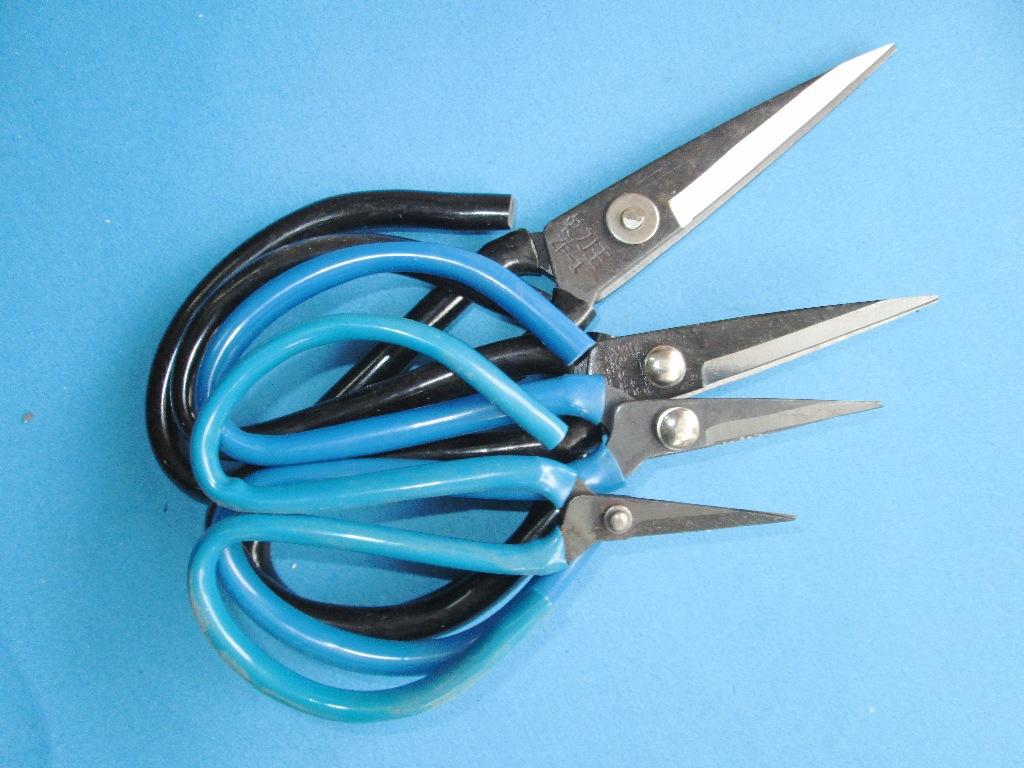scissor: (209, 1, 948, 722)
